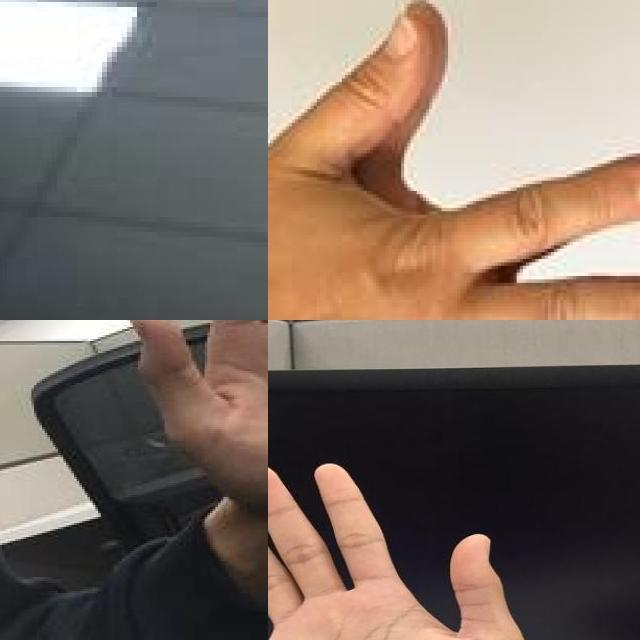hand: (268, 10, 640, 320), (268, 458, 533, 640), (121, 320, 268, 509)
